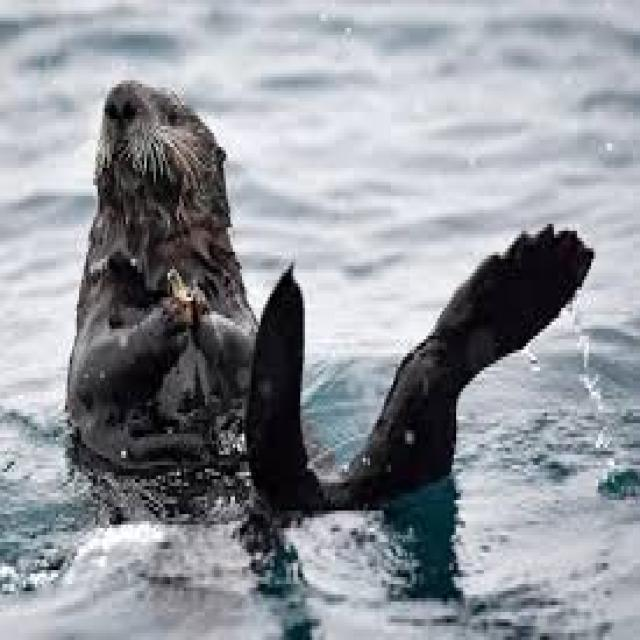Otter: (64, 68, 267, 497)
